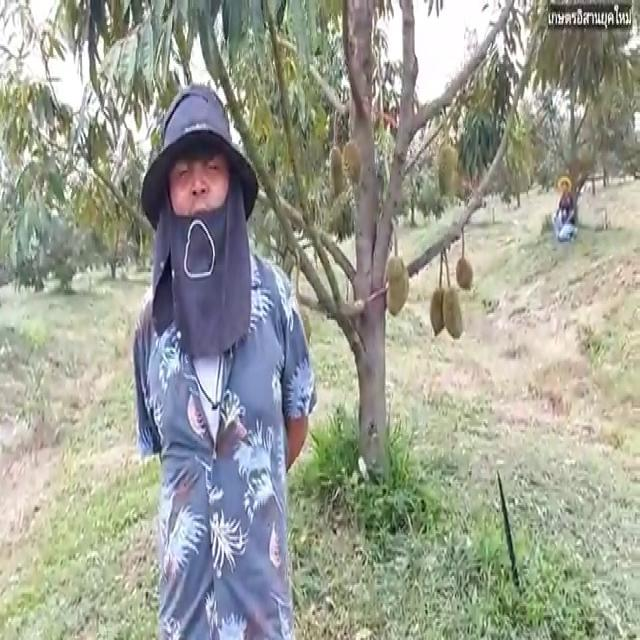durian: (381, 249, 412, 318), (440, 284, 465, 342), (435, 140, 457, 202), (427, 282, 448, 341), (342, 139, 364, 192), (327, 142, 347, 199), (454, 252, 474, 297)
